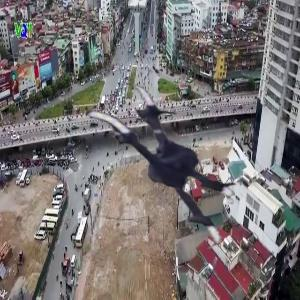drone: (64, 82, 247, 265)
